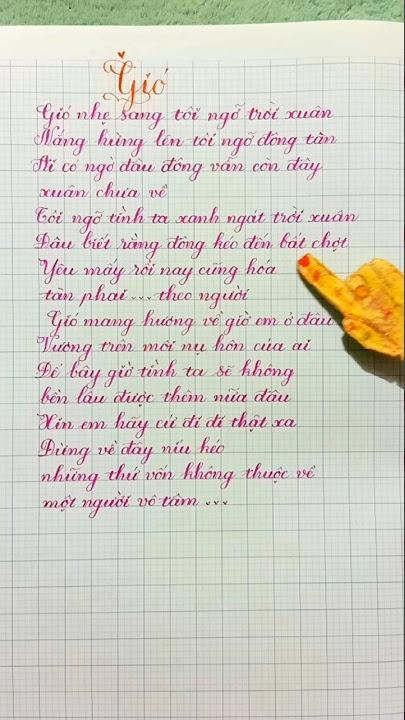text: (31, 123, 341, 158), (31, 228, 350, 261), (32, 204, 363, 234), (34, 99, 336, 131), (37, 460, 320, 494), (30, 153, 325, 184), (42, 308, 337, 339), (32, 357, 296, 391), (35, 333, 312, 363), (35, 409, 301, 440), (36, 256, 278, 288), (35, 382, 293, 408), (39, 488, 229, 521), (35, 435, 227, 467), (39, 282, 251, 310), (100, 47, 172, 112), (36, 180, 170, 202)
